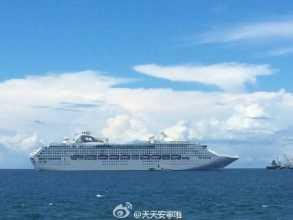youlun: (18, 131, 235, 171)
